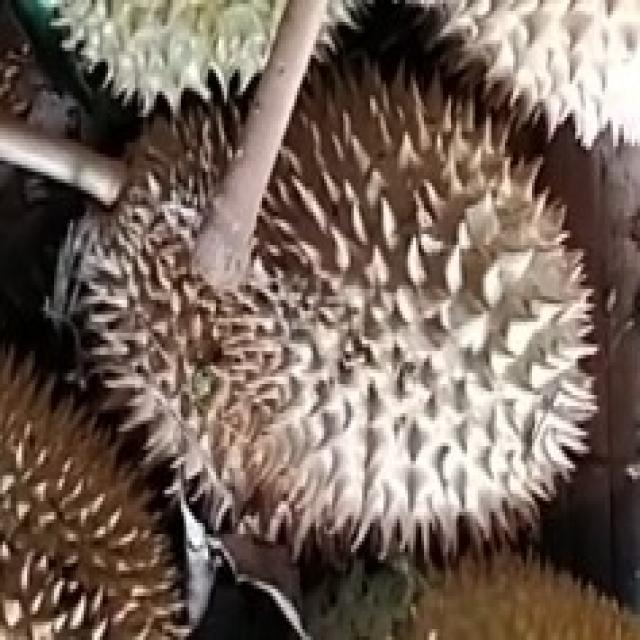mature: (42, 63, 609, 564)
